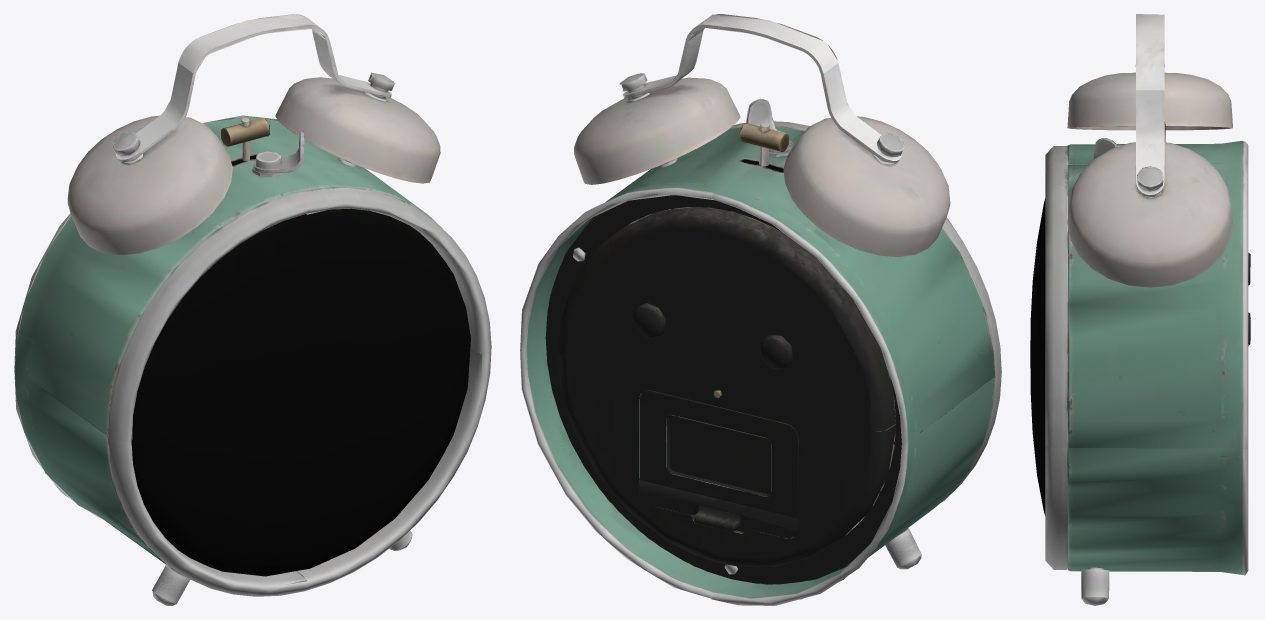
Rendered from alarm_clock_01.glb.
The picture shows the model from 3 angles, left to right: view 1: azimuth 30°, elevation 25°; view 2: azimuth 150°, elevation 25°; view 3: azimuth 270°, elevation 25°; orthographic projection. The views are drawn at different scales.
Parts seen in each view (by area): view 1: alarm_clock_01; view 2: alarm_clock_01; view 3: alarm_clock_01.
Part boxes in pixels (box(x1,y1,x2,y2)): alarm_clock_01: box(14, 14, 491, 605); alarm_clock_01: box(520, 14, 1001, 605); alarm_clock_01: box(1030, 14, 1250, 605).
Bounding box in the file's own units: 0.1315 × 0.1743 × 0.0667.
Materials: 2 (2 with a texture image).
